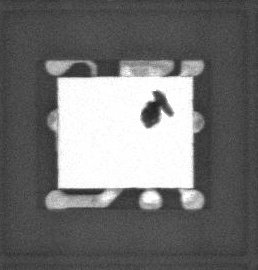DIE_INK: (134, 93, 166, 135)
